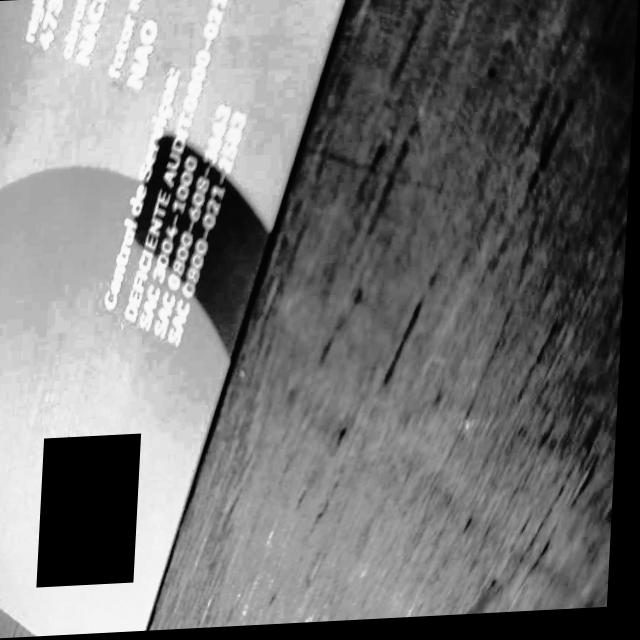qr_code: (43, 434, 146, 587)
